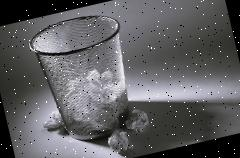paper: (54, 63, 134, 140), (104, 126, 134, 156), (121, 106, 150, 135), (39, 109, 64, 132)
